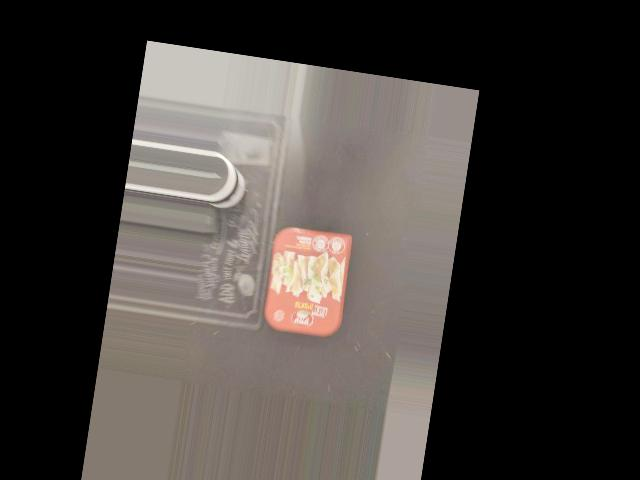cheese: (258, 217, 358, 340)
